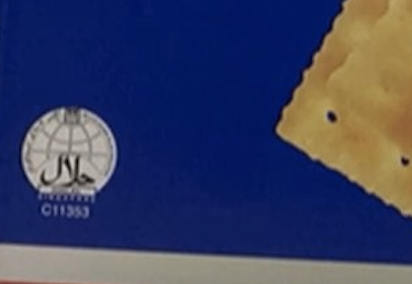halal: (36, 149, 101, 188)
